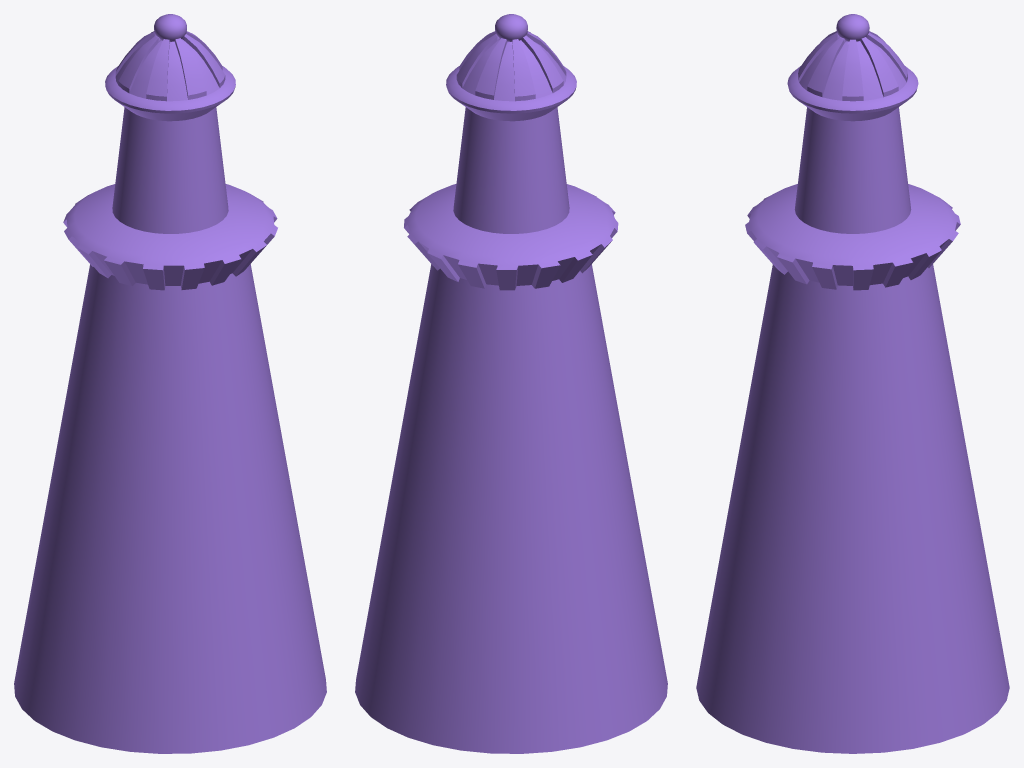
File: LighthouseLP.fbx
3 renders of one model, left to right at view 1: azimuth 30°, elevation 25°; view 2: azimuth 150°, elevation 25°; view 3: azimuth 270°, elevation 25°, orthographic.
Parts seen in each view (by area): view 1: LighthouseLP_Base.001; view 2: LighthouseLP_Base.001; view 3: LighthouseLP_Base.001.
Boxes of the visible parts, x1,y1,x2,y2 form: LighthouseLP_Base.001: (14, 14, 326, 753); LighthouseLP_Base.001: (355, 14, 667, 753); LighthouseLP_Base.001: (696, 14, 1009, 753).
Size of the model in its own units: 188 by 444 by 188.
